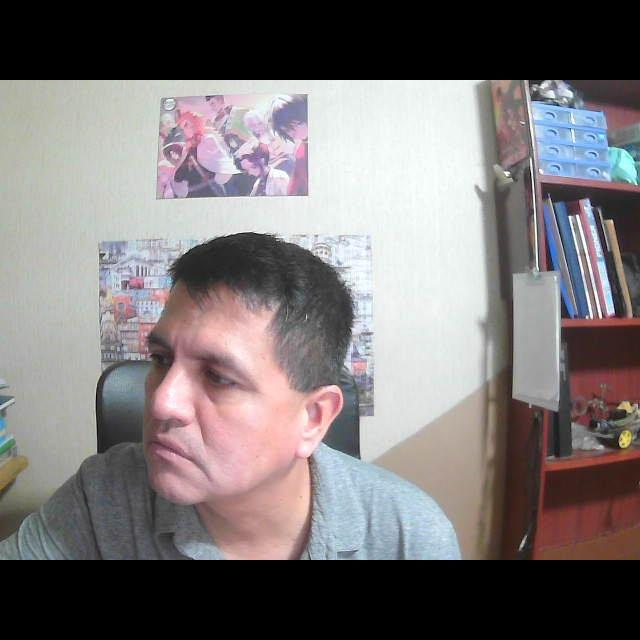cesar: (121, 217, 363, 518)
